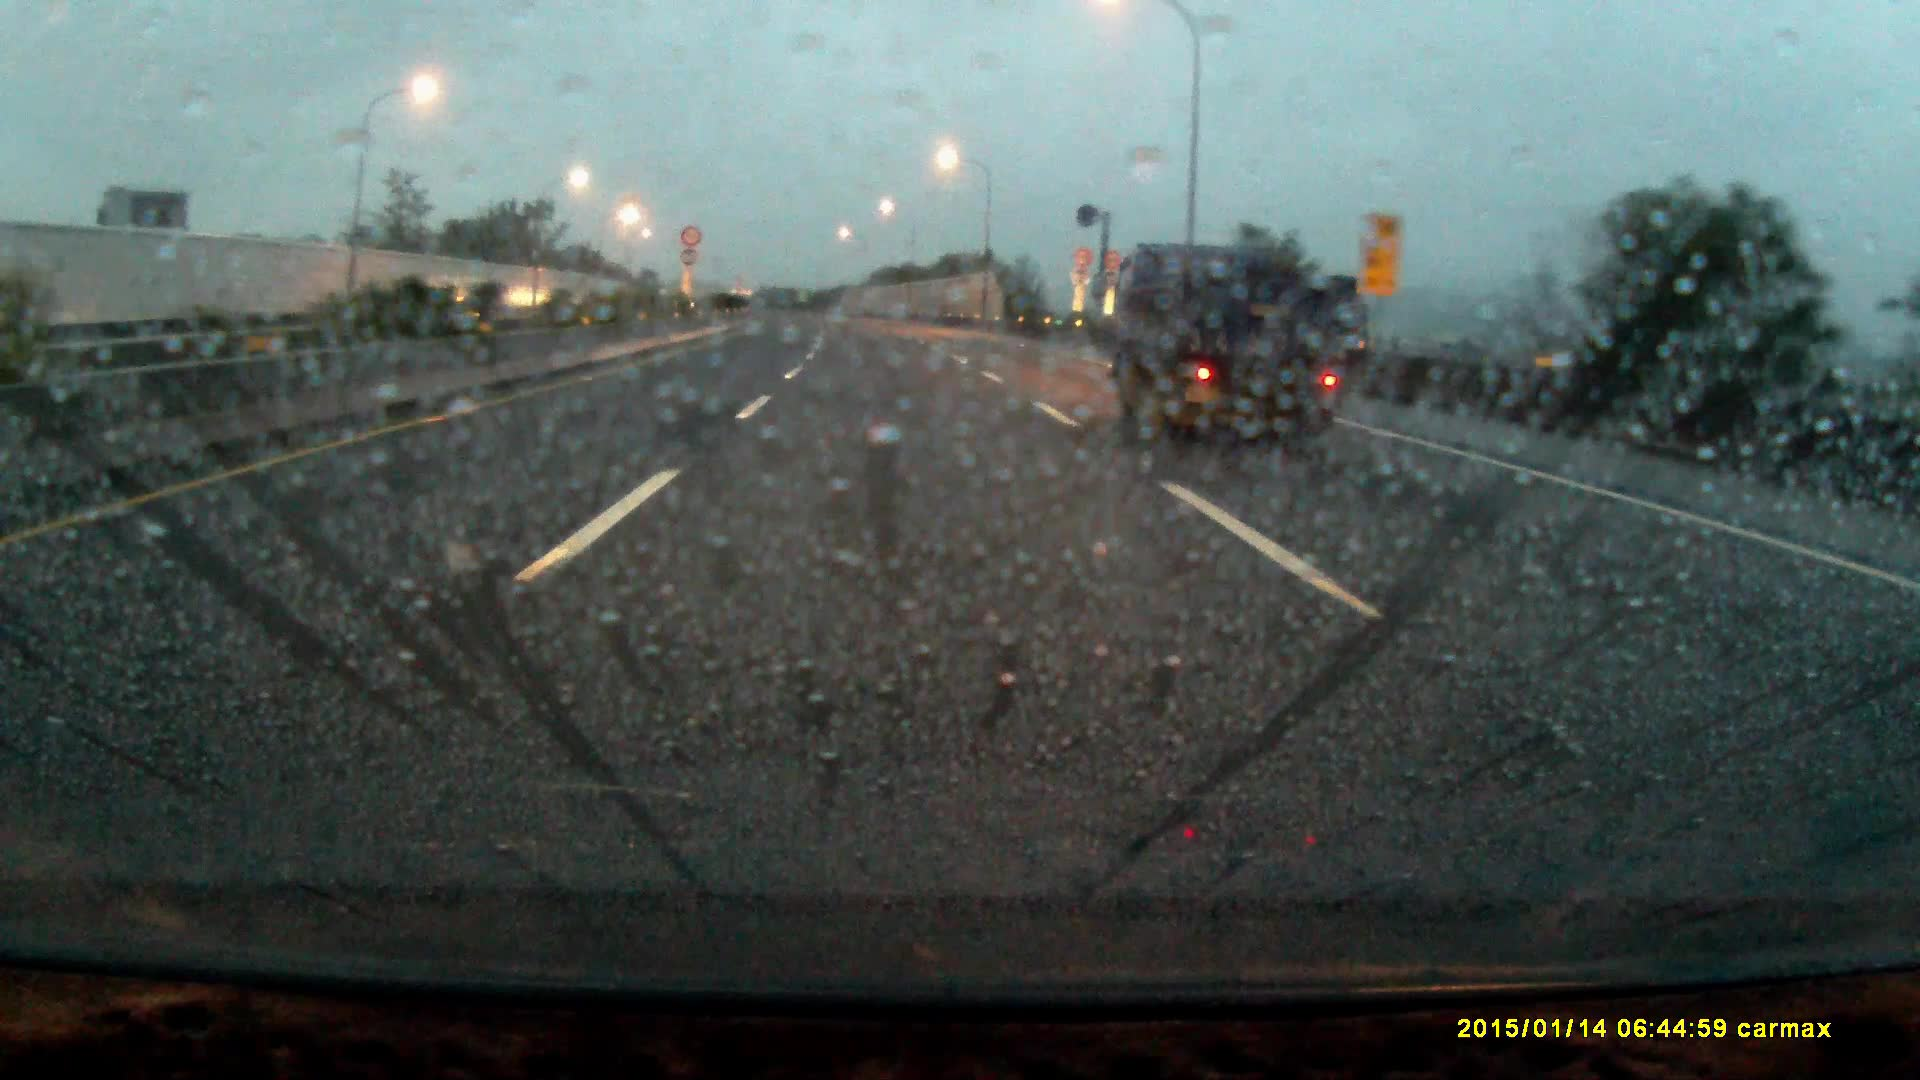vehicle: (1109, 236, 1365, 430)
